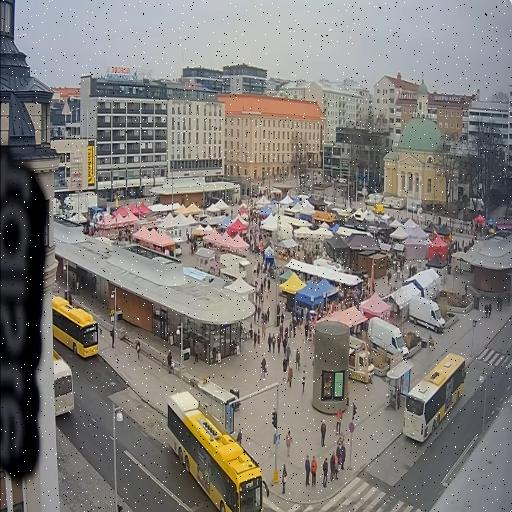Bus: (166, 392, 268, 511), (402, 354, 465, 442), (51, 296, 97, 358), (53, 350, 73, 416)
Delivery: (367, 317, 407, 359), (408, 296, 444, 333), (348, 337, 373, 383)
